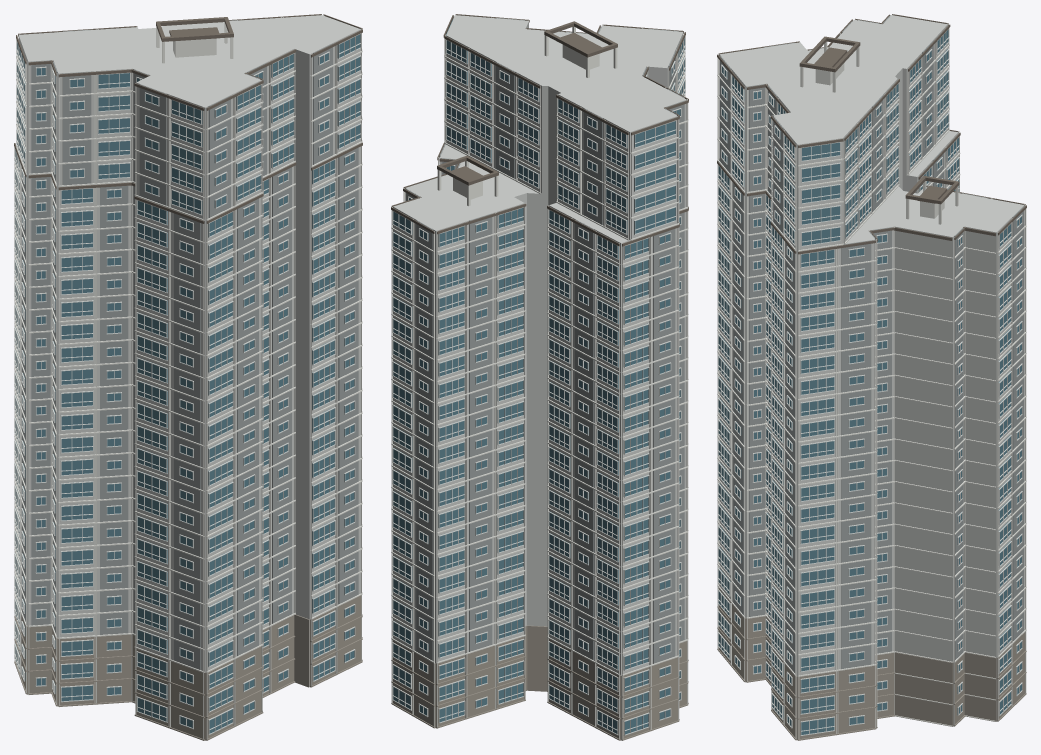
Rendered from bespoke-banpo-xi-138.glb.
3 views of the same model, side by side, from view 1: azimuth 30°, elevation 25°; view 2: azimuth 150°, elevation 25°; view 3: azimuth 270°, elevation 25° (orthographic). The views are drawn at different scales.
Parts seen in each view (by area): view 1: editable_BX138_pale_silver_limestone, editable_BX138_grey_service_core, editable_BX138_blue_grey_broad_glazing, editable_BX138_white_window_frames, editable_BX138_ivory_course_bands, editable_BX138_warm_ground_stone, editable_BX138_dark_coping; view 2: editable_BX138_pale_silver_limestone, editable_BX138_blue_grey_broad_glazing, editable_BX138_white_window_frames, editable_BX138_ivory_course_bands, editable_BX138_grey_service_core, editable_BX138_warm_ground_stone, editable_BX138_dark_coping; view 3: editable_BX138_pale_silver_limestone, editable_BX138_grey_service_core, editable_BX138_blue_grey_broad_glazing, editable_BX138_white_window_frames, editable_BX138_ivory_course_bands, editable_BX138_warm_ground_stone, editable_BX138_dark_coping.
Boxes of the visible parts, x1,y1,x2,y2 form: editable_BX138_pale_silver_limestone: (18, 15, 360, 693); editable_BX138_grey_service_core: (22, 20, 358, 670); editable_BX138_blue_grey_broad_glazing: (15, 34, 360, 733); editable_BX138_white_window_frames: (14, 33, 361, 734); editable_BX138_ivory_course_bands: (14, 14, 362, 740); editable_BX138_warm_ground_stone: (14, 595, 362, 740); editable_BX138_dark_coping: (14, 14, 362, 223); editable_BX138_pale_silver_limestone: (393, 15, 686, 739); editable_BX138_blue_grey_broad_glazing: (393, 19, 684, 734); editable_BX138_white_window_frames: (392, 36, 685, 735); editable_BX138_ivory_course_bands: (391, 14, 688, 739); editable_BX138_grey_service_core: (406, 18, 684, 663); editable_BX138_warm_ground_stone: (391, 625, 688, 740); editable_BX138_dark_coping: (391, 14, 688, 246); editable_BX138_pale_silver_limestone: (719, 15, 1024, 739); editable_BX138_grey_service_core: (720, 16, 1023, 673); editable_BX138_blue_grey_broad_glazing: (718, 30, 1021, 734); editable_BX138_white_window_frames: (717, 28, 1022, 735); editable_BX138_ivory_course_bands: (717, 15, 1026, 739); editable_BX138_warm_ground_stone: (717, 585, 1026, 740); editable_BX138_dark_coping: (717, 14, 1026, 254).
Bounding box in the file's own units: 35.85 × 78.5 × 35.61.
